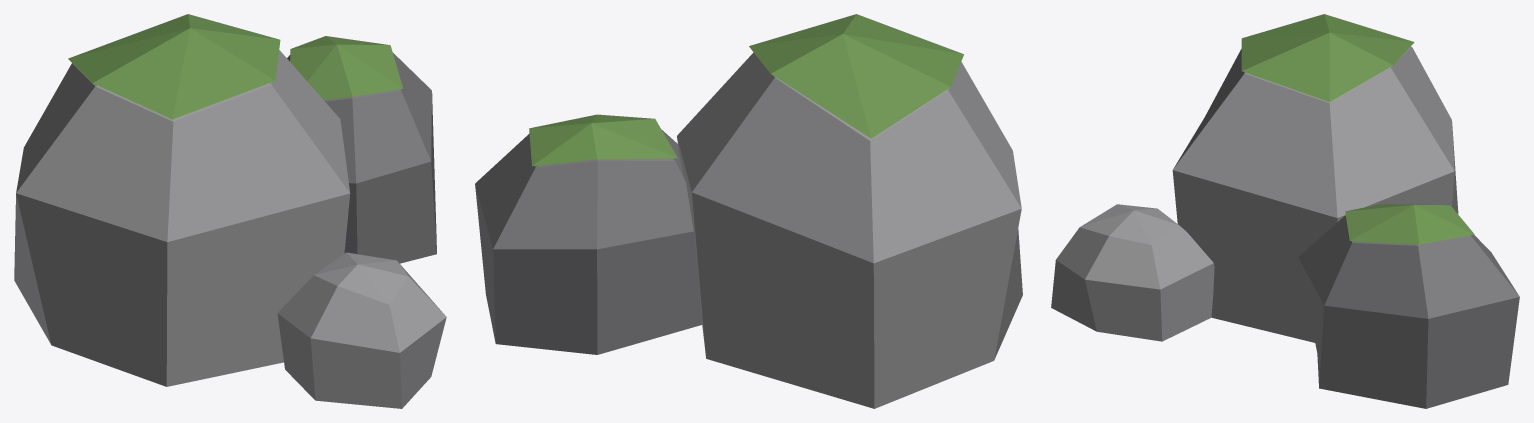
File: rock.glb
The picture shows the model from 3 angles, left to right: view 1: azimuth 30°, elevation 25°; view 2: azimuth 150°, elevation 25°; view 3: azimuth 270°, elevation 25°; orthographic projection. The views are drawn at different scales.
Visible parts, largest first — view 1: RockCluster; view 2: RockCluster; view 3: RockCluster.
Boxes of the visible parts, x1,y1,x2,y2 form: RockCluster: (14,14,446,408); RockCluster: (475,14,1022,408); RockCluster: (1051,14,1519,408).
Bounding box in the file's own units: 1.82 × 1.04 × 1.76.
